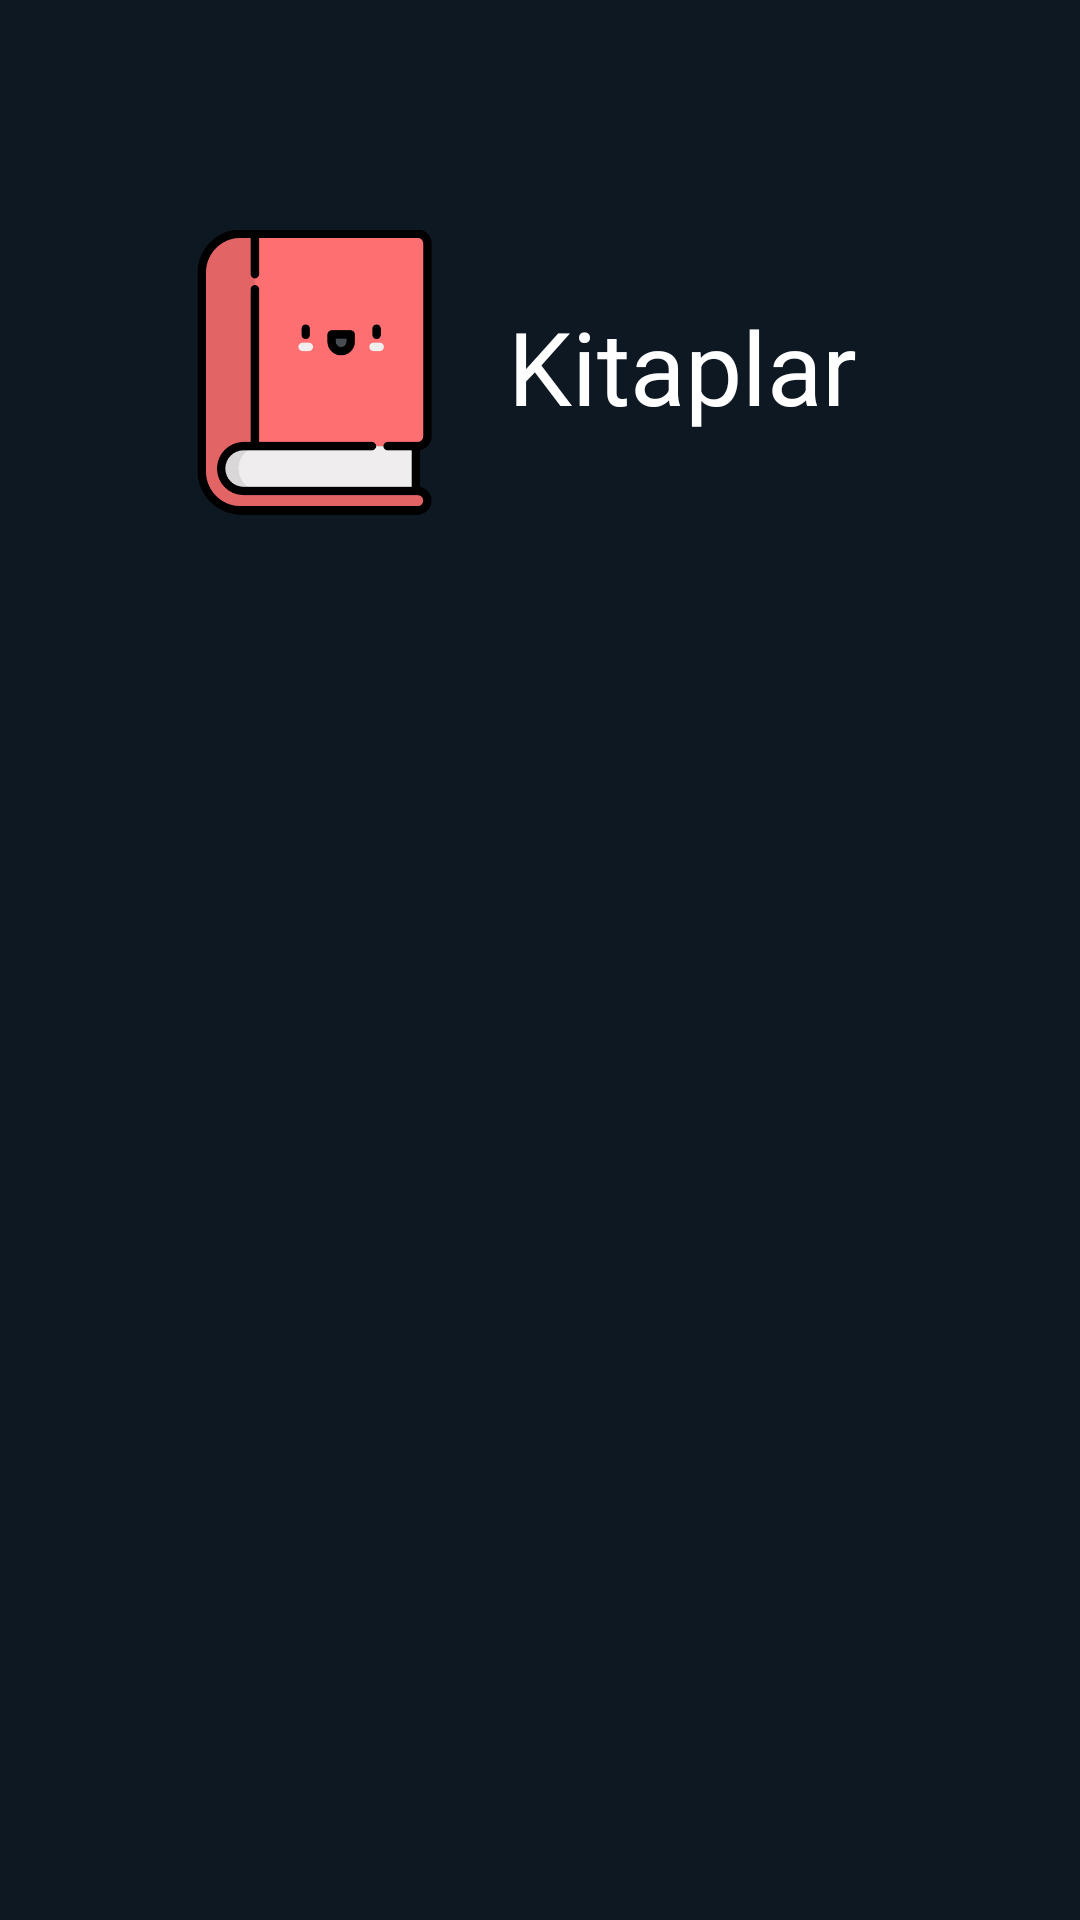

Icon bounding boxes for this 1080×1920 phone screenshot, format (x1, y1, x2, y2):
book: (198, 230, 431, 515)
